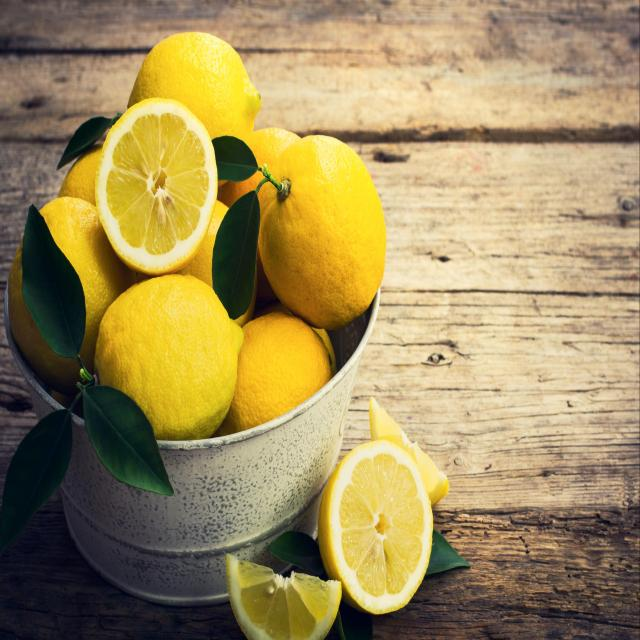lemon: (94, 93, 220, 278), (316, 435, 436, 621)
